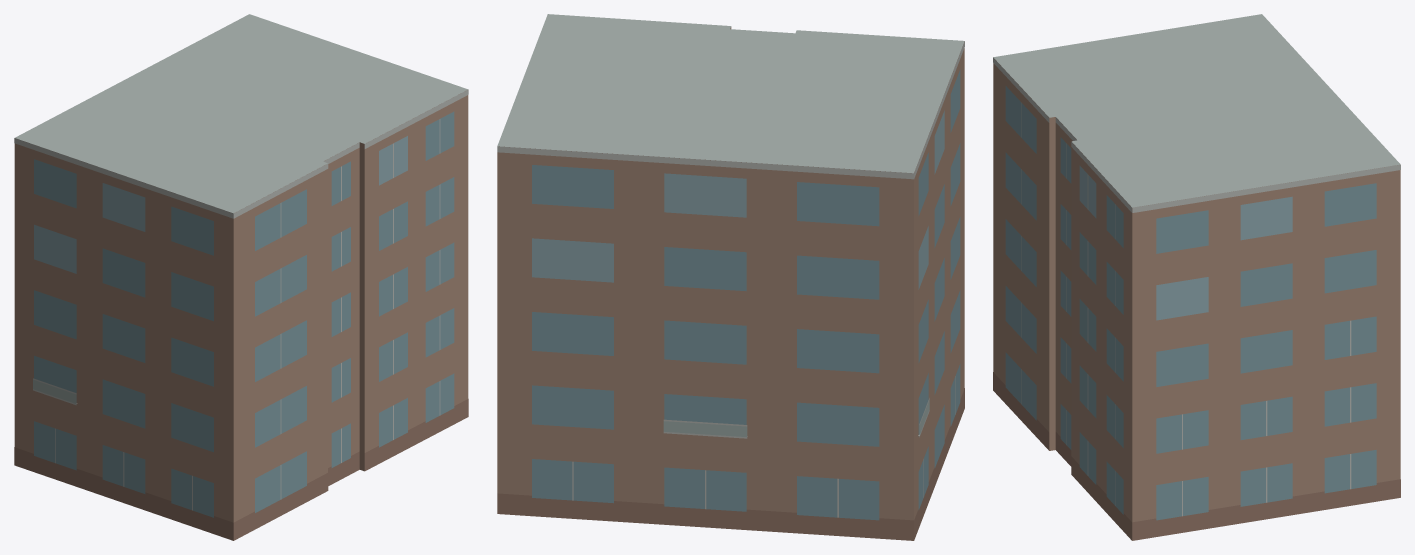
Rendered from survey-upis-32524880.glb.
The picture shows the model from 3 angles, left to right: view 1: azimuth 30°, elevation 25°; view 2: azimuth 150°, elevation 25°; view 3: azimuth 270°, elevation 25°; orthographic projection. The views are drawn at different scales.
Parts seen in each view (by area): view 1: survey-upis-32524880.tmp; view 2: survey-upis-32524880.tmp; view 3: survey-upis-32524880.tmp.
Part boxes in pixels (x1,y1,x2,y2): survey-upis-32524880.tmp: [14, 14, 468, 540]; survey-upis-32524880.tmp: [497, 14, 964, 540]; survey-upis-32524880.tmp: [993, 14, 1400, 540].
Bounding box in the file's own units: 18.46 × 14.8 × 16.42.
